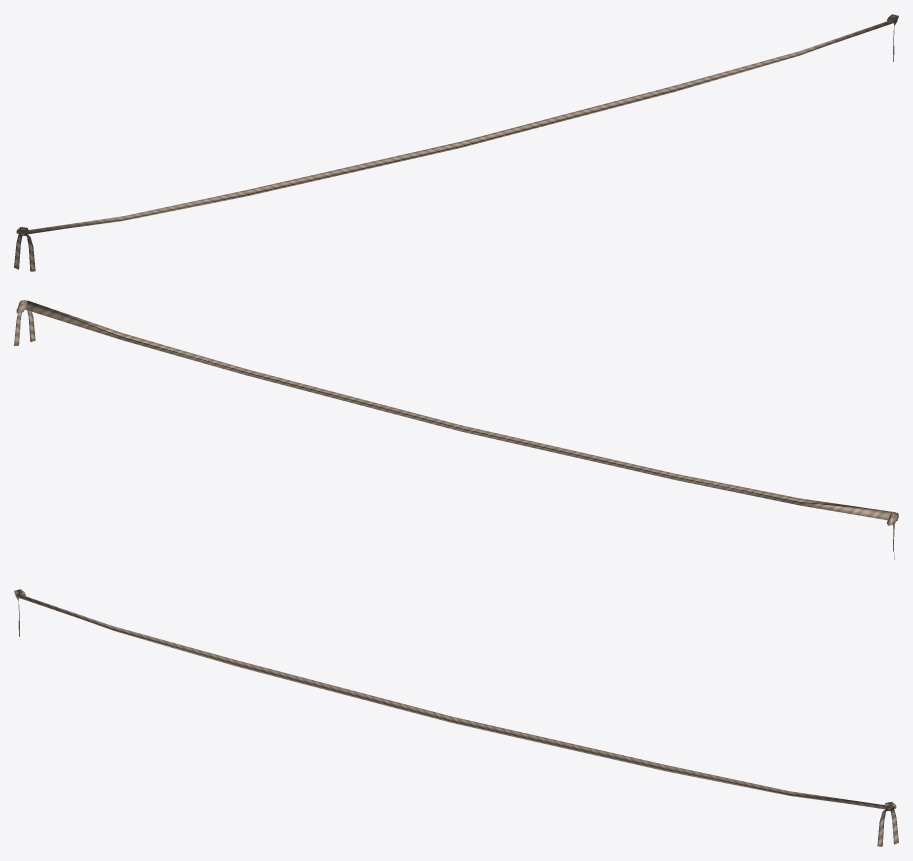
Rendered from jsf_2P_String_s02_04.fbx.
3 renders of one model, top to bottom at view 1: azimuth 30°, elevation 25°; view 2: azimuth 150°, elevation 25°; view 3: azimuth 330°, elevation 25°, orthographic.
Parts seen in each view (by area): view 1: jsf_2P_String_s02_04; view 2: jsf_2P_String_s02_04; view 3: jsf_2P_String_s02_04.
Part boxes in pixels (x1,y1,x2,y2): jsf_2P_String_s02_04: [14, 14, 898, 271]; jsf_2P_String_s02_04: [14, 300, 898, 559]; jsf_2P_String_s02_04: [14, 589, 898, 846].
Bounding box in the file's own units: 212 × 9.72 × 4.94.
